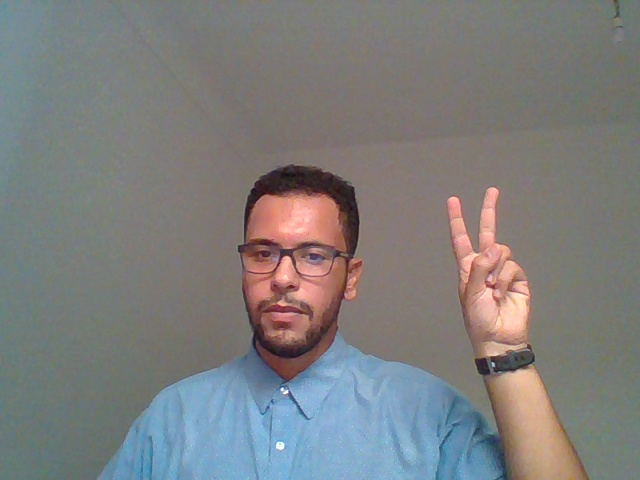vectory: (416, 173, 563, 458)
